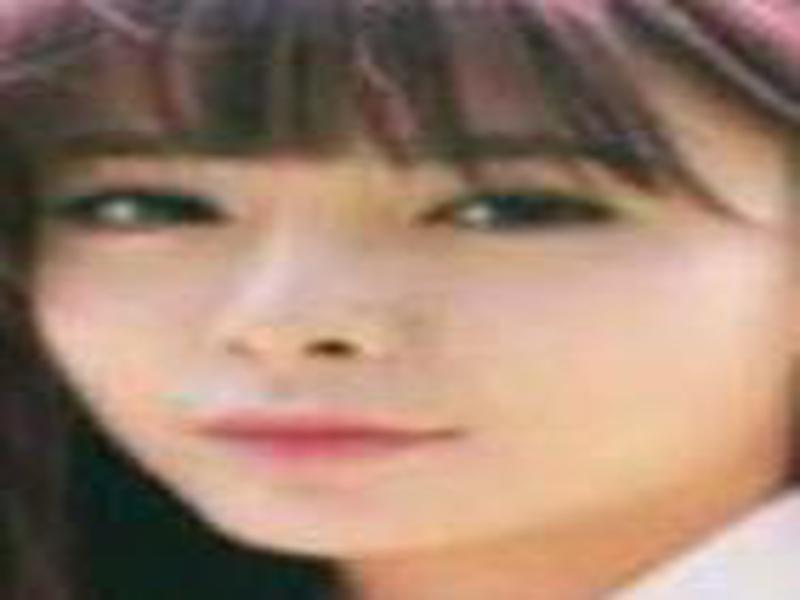without_mask: (27, 74, 778, 553)
